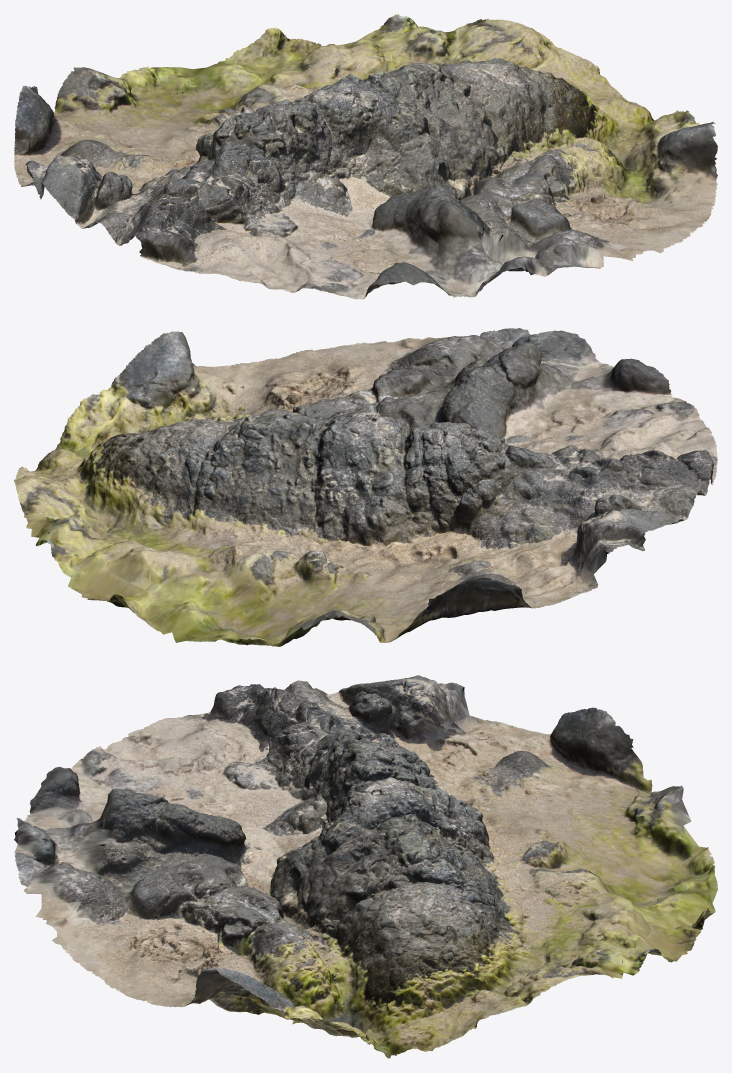
The model's file is sf-beach-rock-formation-01-242d80.glb.
The picture shows the model from 3 angles, top to bottom: view 1: azimuth 30°, elevation 25°; view 2: azimuth 150°, elevation 25°; view 3: azimuth 270°, elevation 25°; orthographic projection.
Visible parts, largest first — view 1: Object_4, Object_2, Object_3, Object_6; view 2: Object_4, Object_3, Object_2, Object_6; view 3: Object_4, Object_3, Object_2, Object_6.
Part boxes in pixels (x1=…): Object_4: x1=14, y1=16, x2=717, y2=299; Object_2: x1=14, y1=23, x2=716, y2=298; Object_3: x1=14, y1=14, x2=711, y2=299; Object_6: x1=15, y1=17, x2=717, y2=298; Object_4: x1=14, y1=330, x2=717, y2=646; Object_3: x1=28, y1=328, x2=711, y2=642; Object_2: x1=24, y1=332, x2=717, y2=646; Object_6: x1=18, y1=338, x2=709, y2=642; Object_4: x1=15, y1=675, x2=717, y2=1058; Object_3: x1=14, y1=680, x2=714, y2=1050; Object_2: x1=15, y1=678, x2=717, y2=1050; Object_6: x1=27, y1=689, x2=717, y2=1040.
Size of the model in its own units: 5.07 by 1.06 by 5.06.
4 materials, 4 textured.
